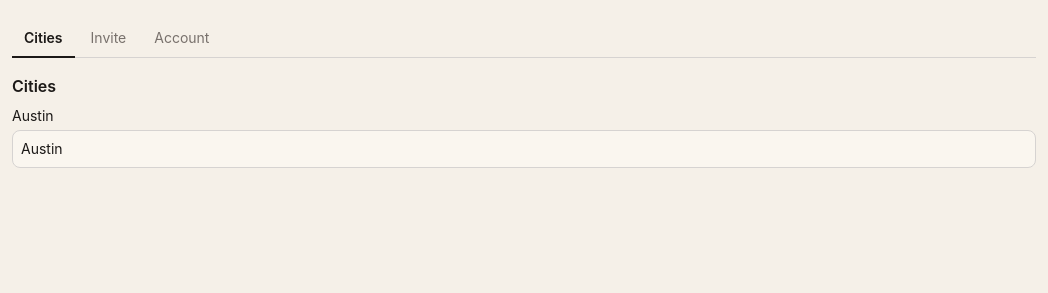
Scenario: SettingsForm › starts on Cities and hides invite and account until selected
Check: the field showing "Austin" is shown, box 12,130 -> 1036,168
Check: the field labelled "Invite email" is not shown
Click the tab "Invite".
click(108, 39)  # box 79,20 -> 138,58
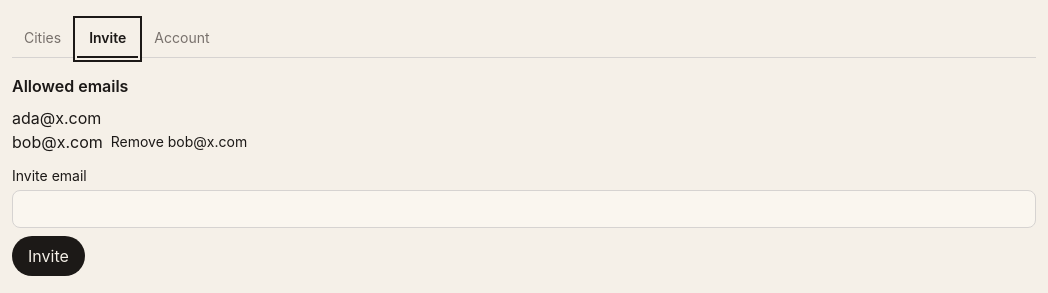
Check: the field labelled "Invite email" is shown, box 12,190 -> 1036,228
Check: the label showing "Austin" is gone
Click the tab "Account".
click(182, 39)  # box 142,20 -> 222,58
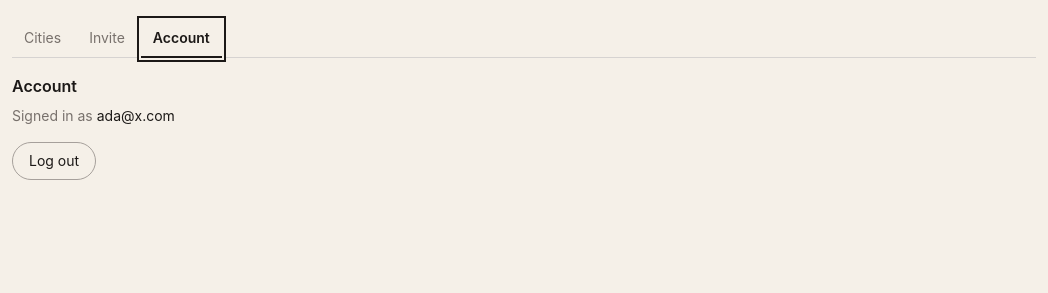
Check: the text "ada@x.com" is shown, box 97,107 -> 175,124
Check: the button "Log out" is shown, box 12,142 -> 96,180
